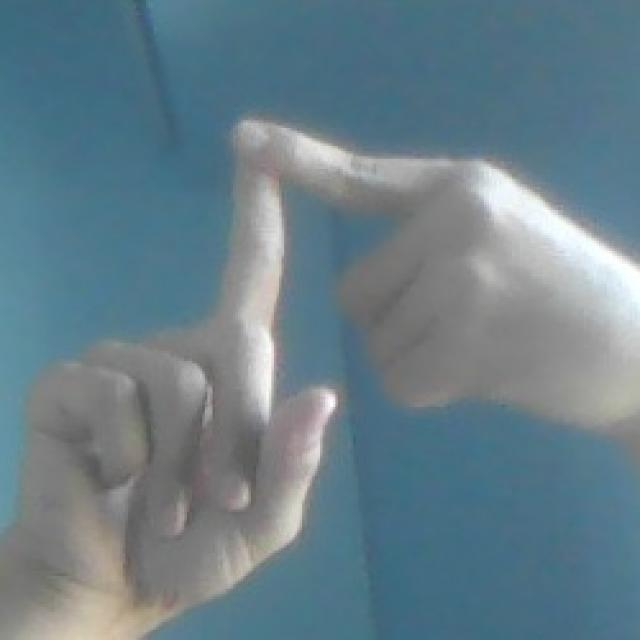Alphabet-E: (0, 120, 640, 640)
